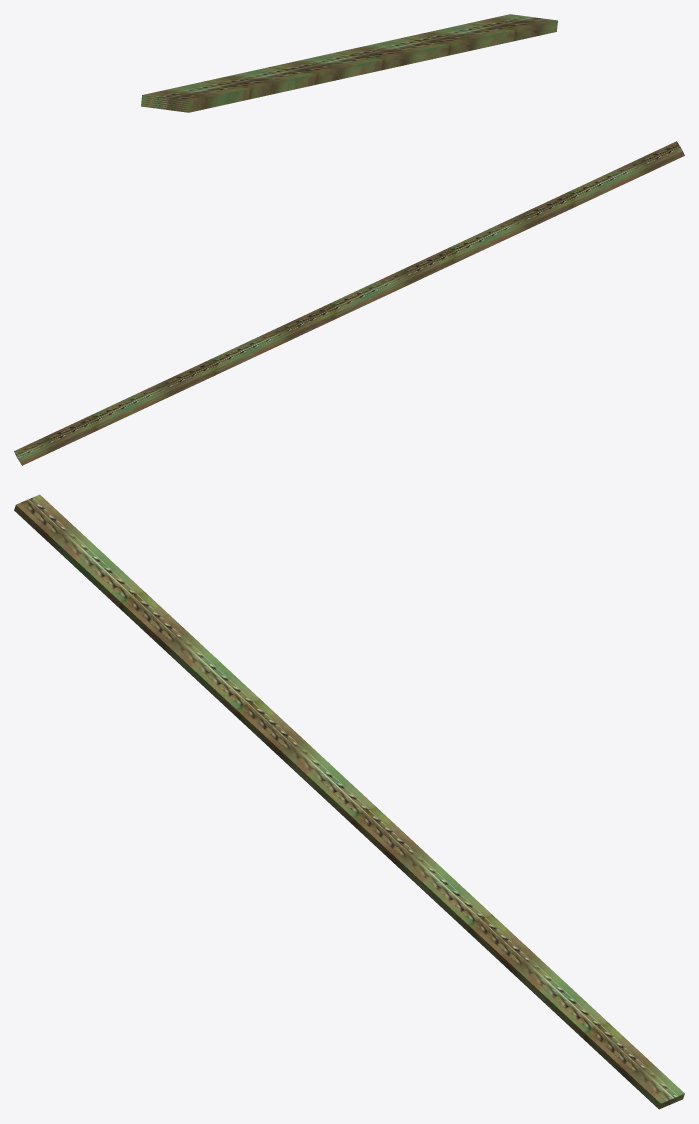
Rendered from GH_1_RoofT_6.gltf.
The picture shows the model from 3 angles, top to bottom: view 1: azimuth 30°, elevation 25°; view 2: azimuth 150°, elevation 25°; view 3: azimuth 270°, elevation 25°; orthographic projection. The views are drawn at different scales.
Visible parts, largest first — view 1: GH_1_RoofT_6; view 2: GH_1_RoofT_6; view 3: GH_1_RoofT_6.
Part boxes in pixels (box(x1,y1,x2,y2)): GH_1_RoofT_6: box(141, 14, 557, 112); GH_1_RoofT_6: box(14, 141, 684, 465); GH_1_RoofT_6: box(14, 494, 684, 1109).
Size of the model in its own units: 3.64 by 1.93 by 3.57.
Materials: 1 (1 with a texture image).
